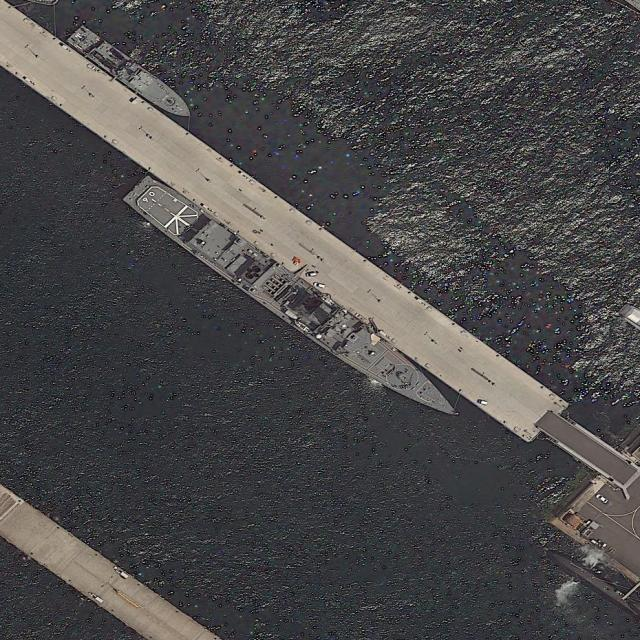Destroyer: (117, 166, 475, 433)
Other Warship: (67, 23, 198, 127)
